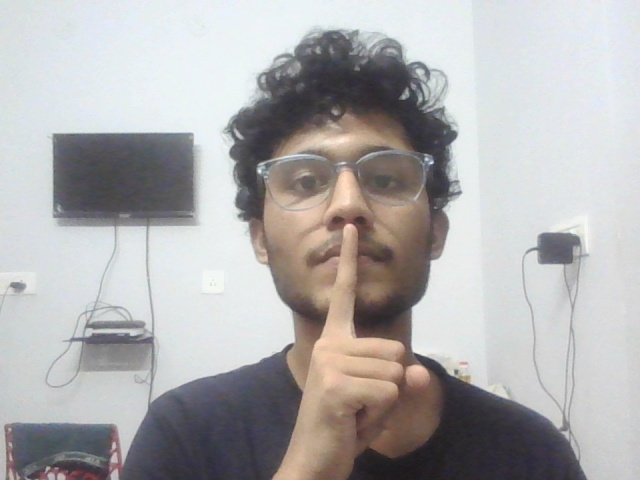Quiet: (260, 221, 455, 477)
